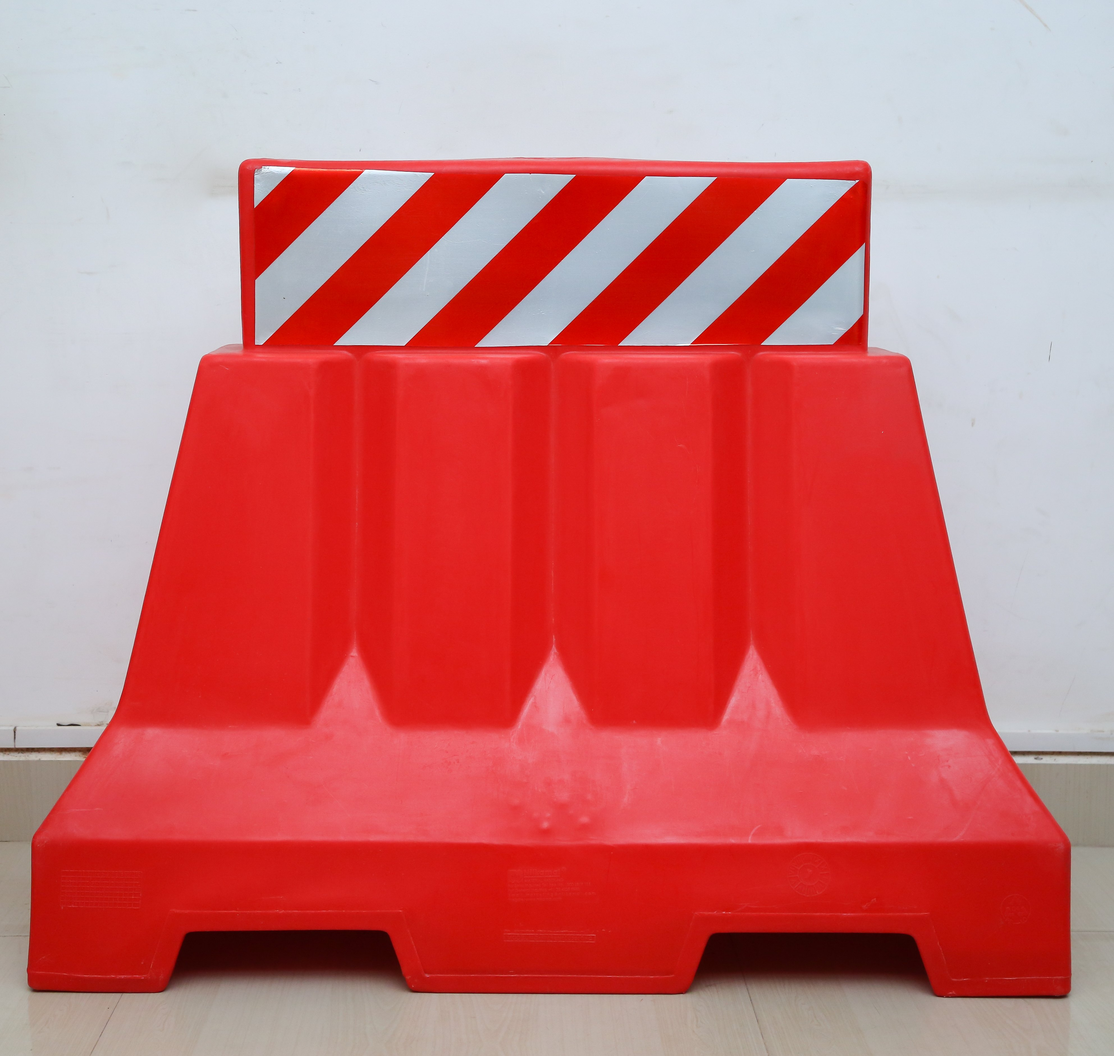Barrier: (23, 159, 1095, 1011)
